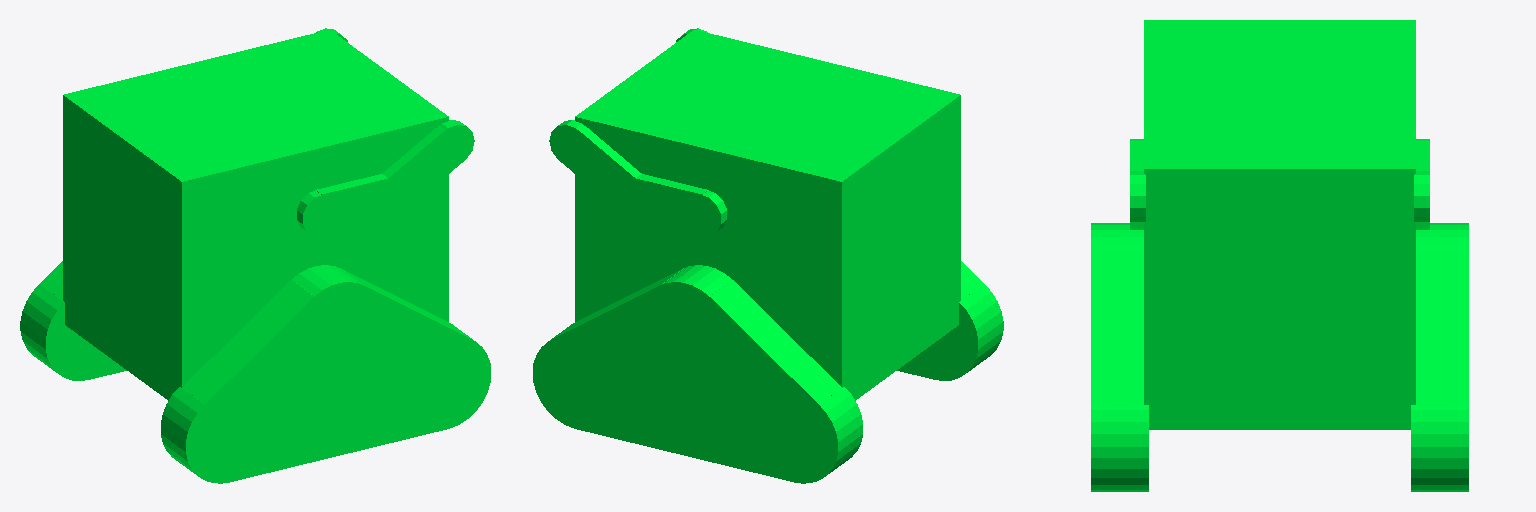
The robot description file, URDF, robot "avocet":
<robot name="avocet">
  <link name="base_link">
    <visual>
      <geometry>
        <mesh filename="package://avocet_urdf/src/CamRobot.stl" />
      </geometry>
      <origin xyz="0 0 0" rpy="0 0 0"/>
      <material name="red">
        <color rgba="0.0 1.0 0.3 2.0"/>
      </material>
    </visual>
  </link>
</robot>

--- What the picture shows (computed from the rendered views, not written in the file) ---
3 views of the same robot in one strip: view 1: azimuth 30°, elevation 25°; view 2: azimuth 150°, elevation 25°; view 3: azimuth 270°, elevation 25° (orthographic).
Robot: avocet — 1 links, 0 joints (none); root link base_link; default pose: every joint at zero.
Visible links, largest first — view 1: base_link; view 2: base_link; view 3: base_link.
Boxes of the visible links, x1,y1,x2,y2 form: base_link: (20,28,490,483); base_link: (533,28,1003,483); base_link: (1091,20,1468,491).
Size in the robot's own frame: 0.3147 by 0.295 by 0.285 metres.
1 mesh visuals loaded from 1 distinct referenced files (1 ASCII STL).